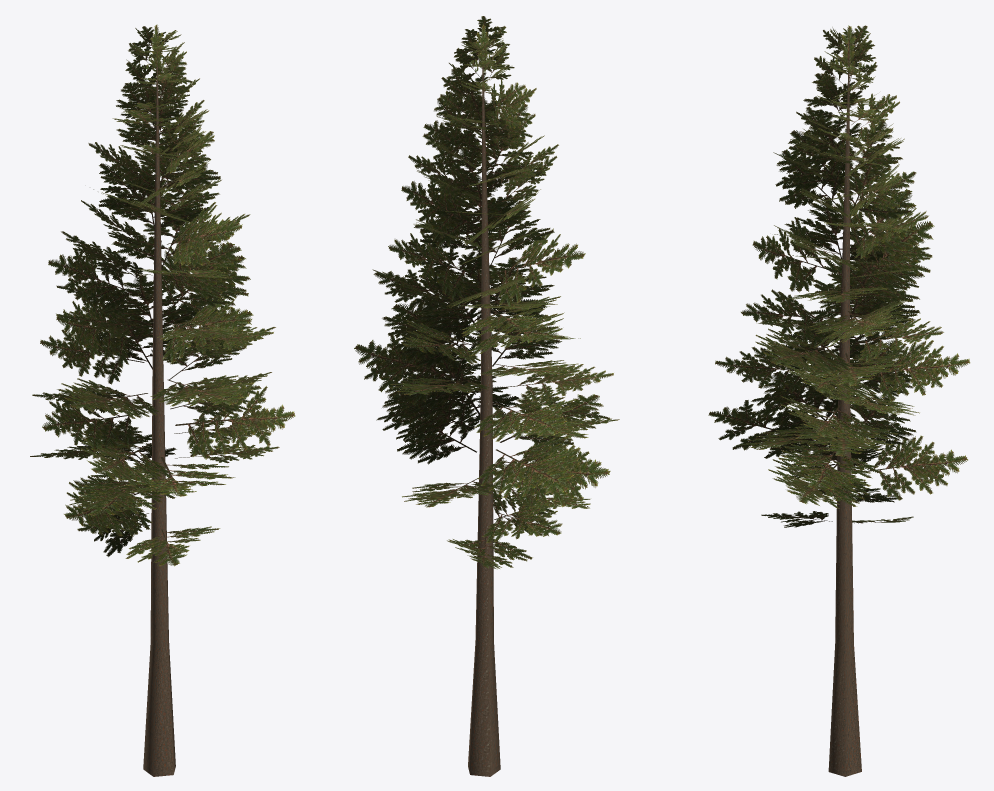
The model's file is fir_tall_b_lod4.gltf.
3 renders of one model, left to right at view 1: azimuth 30°, elevation 25°; view 2: azimuth 150°, elevation 25°; view 3: azimuth 270°, elevation 25°, orthographic.
Parts seen in each view (by area): view 1: fir_tall_b_LOD4; view 2: fir_tall_b_LOD4; view 3: fir_tall_b_LOD4.
Part boxes in pixels (x1,y1,x2,y2): fir_tall_b_LOD4: [30, 24, 295, 776]; fir_tall_b_LOD4: [354, 16, 619, 776]; fir_tall_b_LOD4: [708, 25, 970, 776].
Bounding box in the file's own units: 12.01 × 33.59 × 12.22.
Materials: 2 (2 with a texture image).
